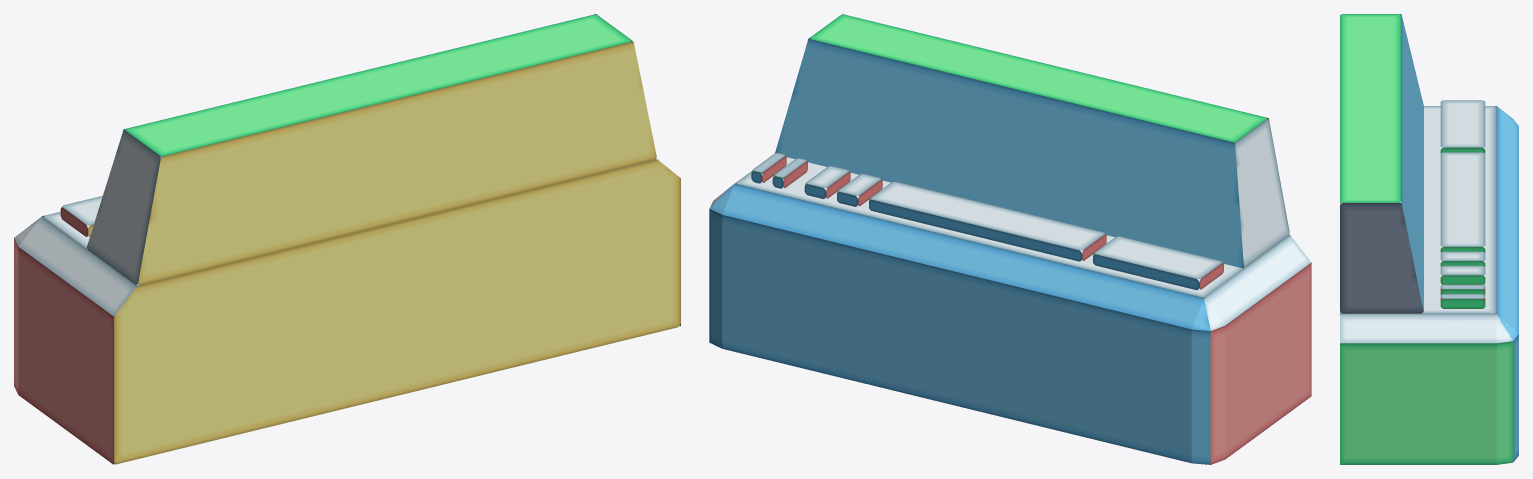
File: console.obj
The picture shows the model from 3 angles, left to right: view 1: azimuth 30°, elevation 25°; view 2: azimuth 150°, elevation 25°; view 3: azimuth 270°, elevation 25°; orthographic projection. The views are drawn at different scales.
Visible parts, largest first — view 1: console_base, console_top, panel; view 2: console_base, console_top, panel; view 3: console_base, console_top, panel.
Boxes of the visible parts, <box> form: console_base: <box>14,158,680,464</box>; console_top: <box>86,14,656,285</box>; panel: <box>60,195,102,236</box>; console_base: <box>709,157,1311,464</box>; console_top: <box>775,14,1289,268</box>; panel: <box>751,153,1223,290</box>; console_base: <box>1340,106,1518,464</box>; console_top: <box>1340,14,1423,313</box>; panel: <box>1440,100,1485,308</box>.
Size of the model in its own units: 3 by 1.5 by 1.
1 material, 1 textured.
